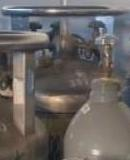cylinder: (1, 1, 130, 160)
